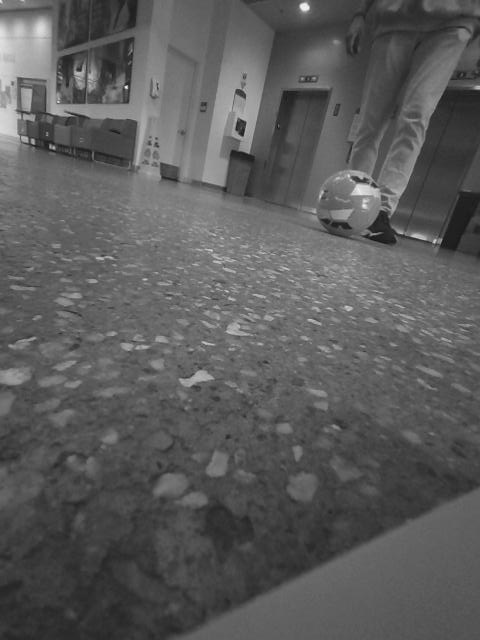ball: (313, 168, 384, 239)
